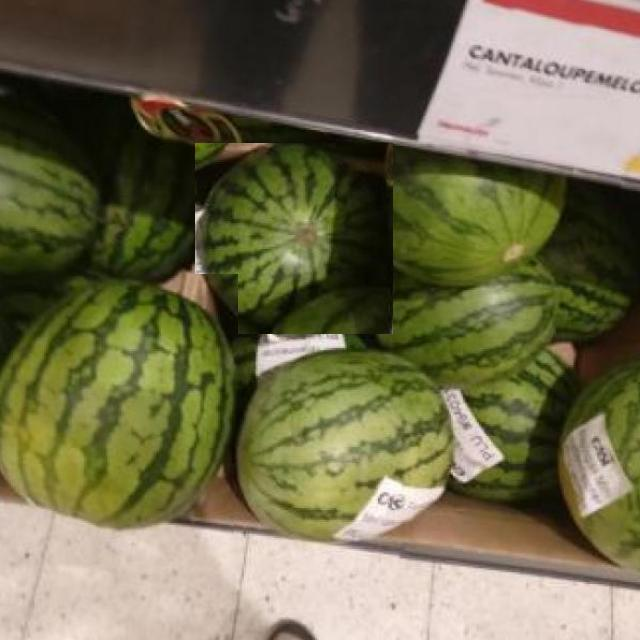Watermelon: (0, 274, 238, 536), (234, 344, 453, 548), (195, 143, 393, 334)
